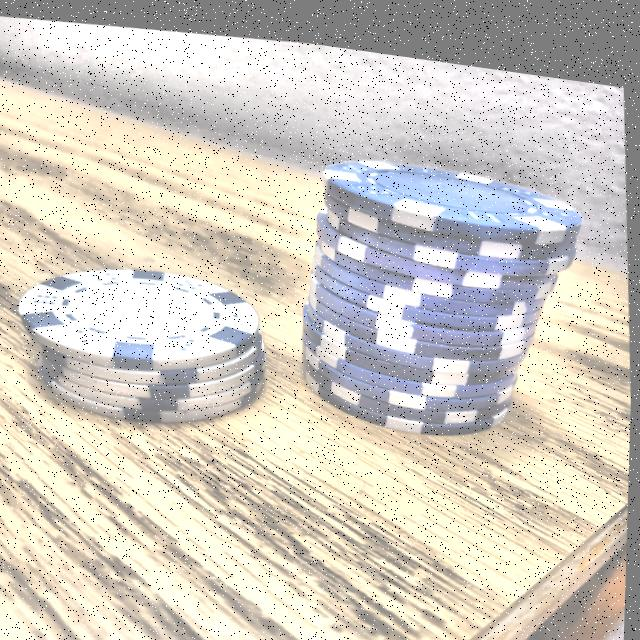Chip: (277, 104, 600, 459), (11, 226, 290, 460)
